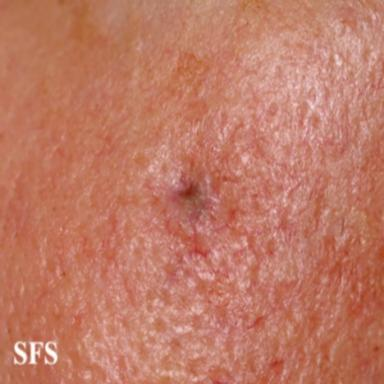basal-cell-carcinoma: (161, 156, 214, 226)
